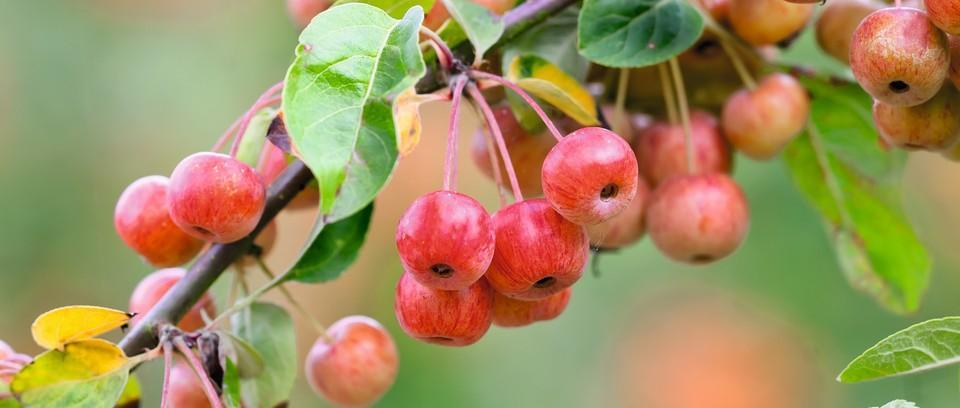apple: (487, 197, 587, 304), (391, 189, 498, 286), (539, 127, 640, 224), (848, 14, 952, 108), (648, 173, 748, 266), (171, 150, 268, 242), (306, 314, 400, 407), (112, 171, 204, 264), (394, 270, 492, 348), (873, 81, 959, 152)
